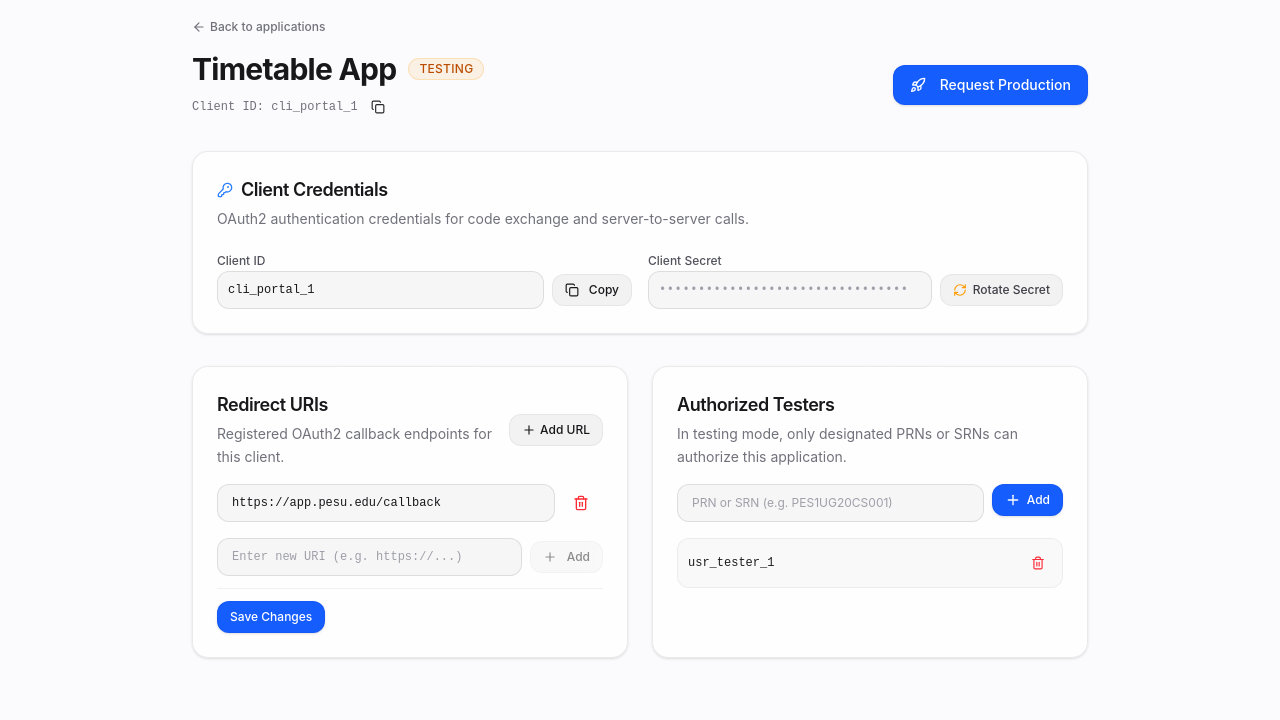
Test: ClientDetailPage Component › displays error when rotating secret fails
Expected: the heading "Timetable App" is shown, x1=192 y1=51 x2=396 y2=87
What coordinates should you click on to do the following:
click the button "Rotate Secret"
I would click on:
 (1001, 290)
Its box is x1=940 y1=274 x2=1063 y2=306.
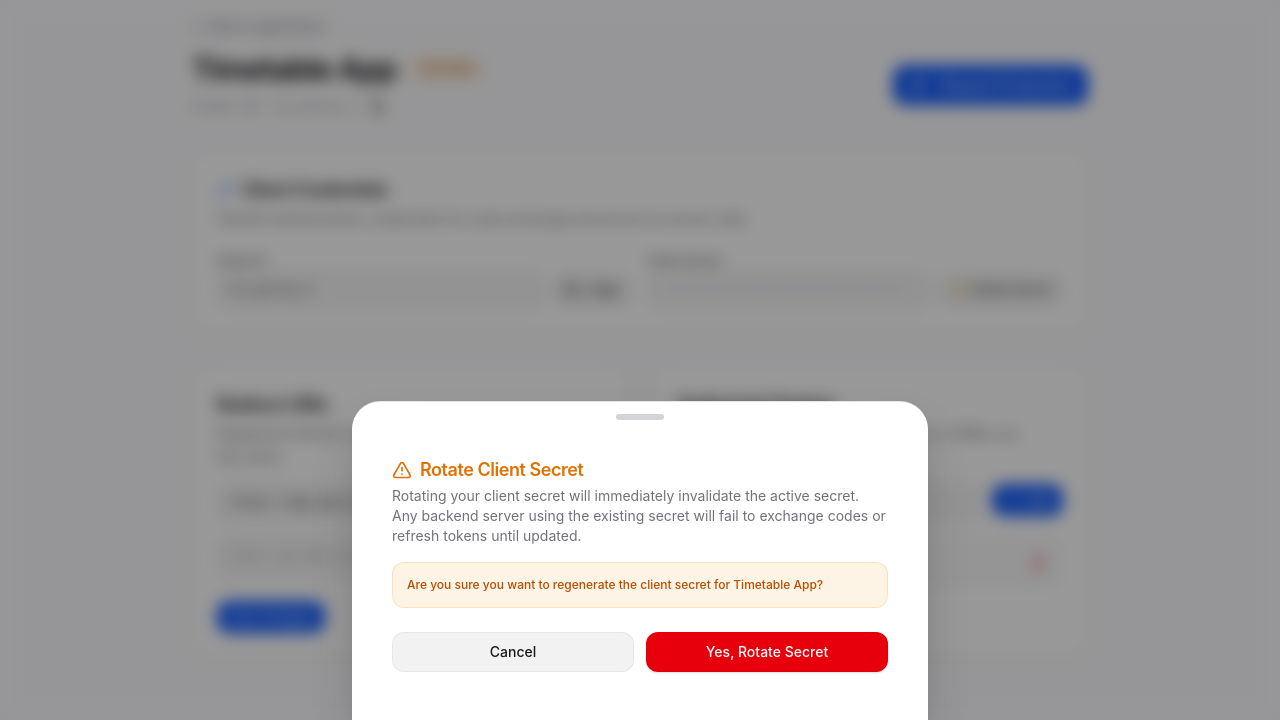
What coordinates should you click on to do the following:
click the button "Yes, Rotate Secret"
I would click on:
 (767, 652)
Its box is x1=646 y1=632 x2=888 y2=672.
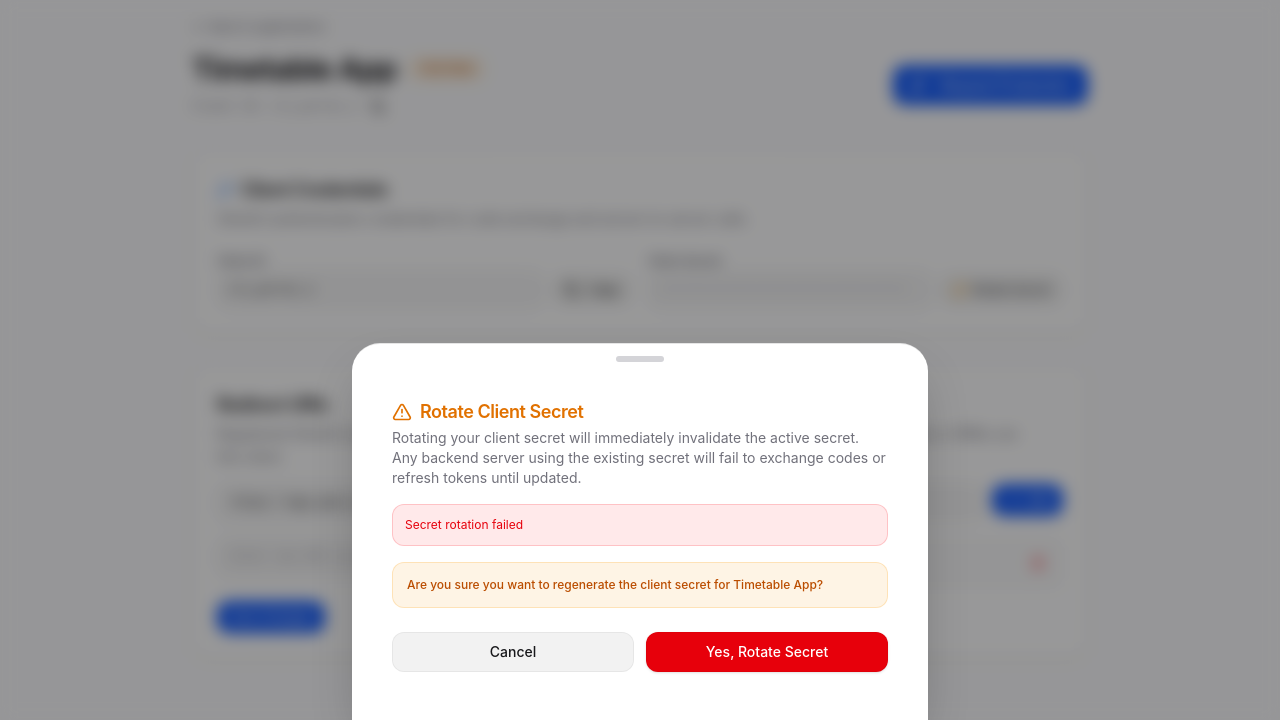
Expected: the text "Secret rotation failed" is shown, x1=405 y1=517 x2=523 y2=533
